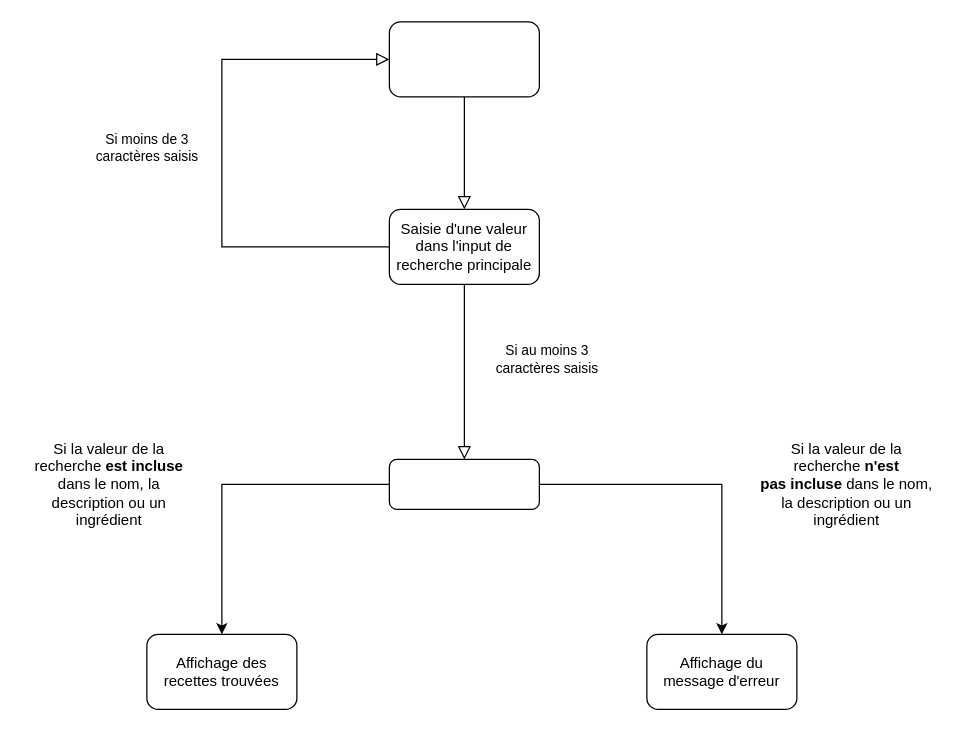
The diagram is 955 pixels wide and 731 high, and some of its shapes have lost their labels. The shapes that lost their labels are listed below. From the top down, each one's centre as x and y in pixels, then its label:
[463,59]: Affichage des 50 recettes du fichier recipes.js
[463,483]: Méthode Filter()
